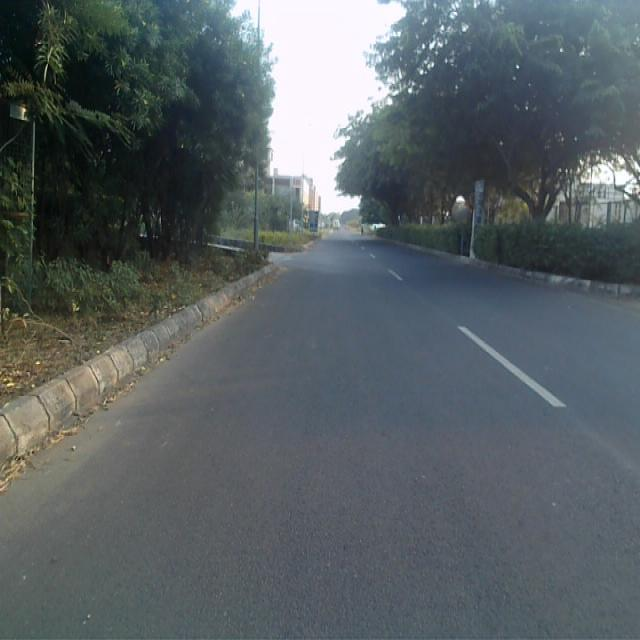lane: (0, 233, 640, 640)
